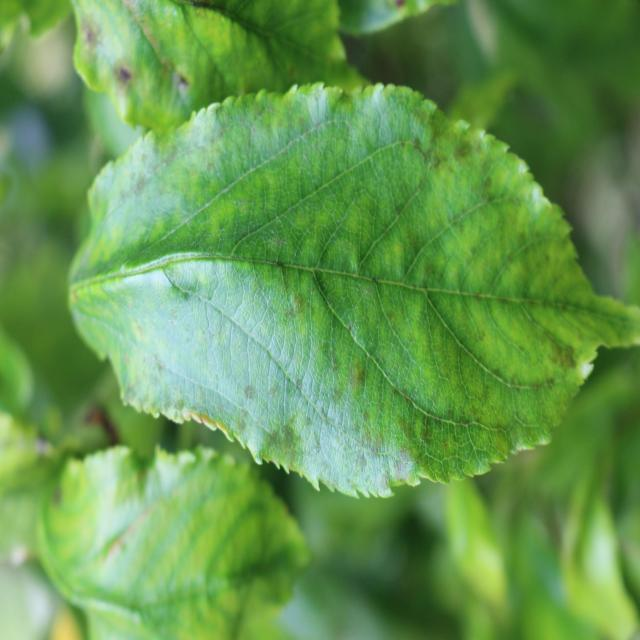scab: (106, 278, 618, 497), (394, 91, 528, 242), (105, 130, 281, 204), (71, 10, 200, 109)
